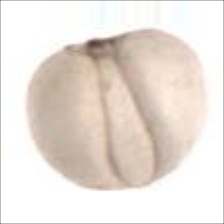L5: (90, 51, 167, 190), (64, 32, 136, 66)
L6: (20, 26, 211, 194)
